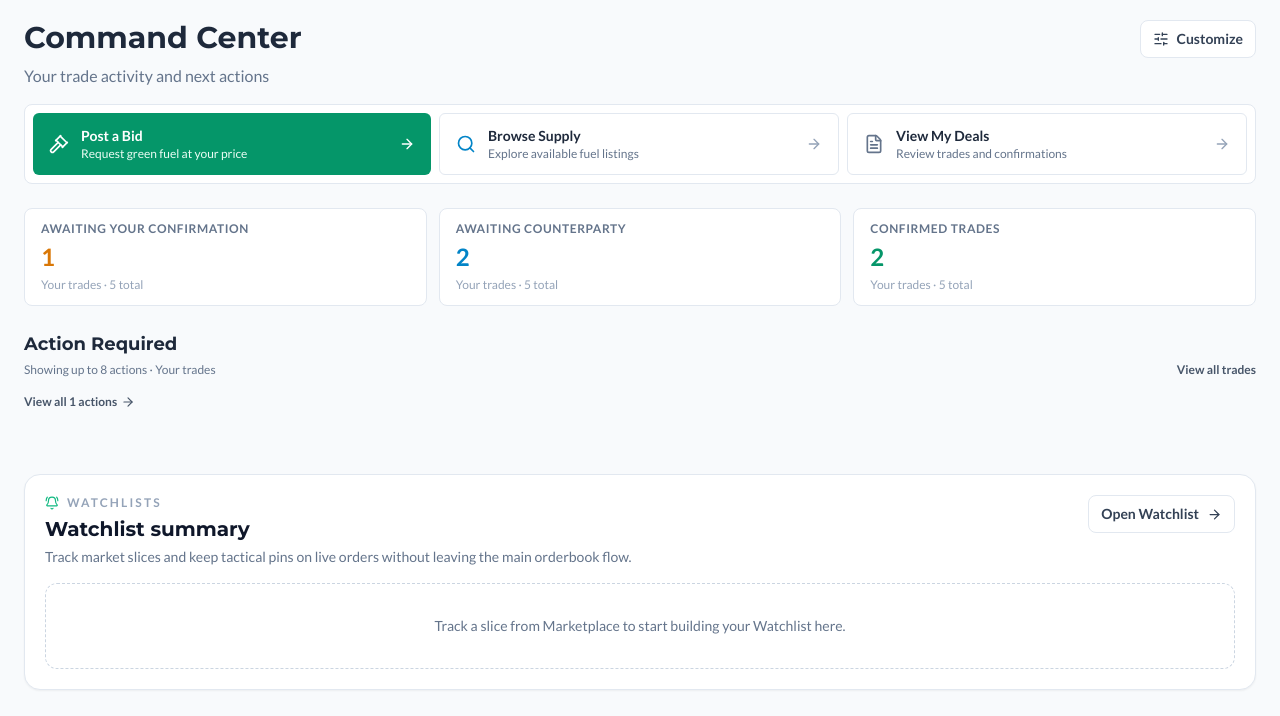
customizable home › customizing › disables a move that cannot happen
expect the heading "Command Center" is shown: met, box [24,20,302,56]
Click the button "Customize" at (1198,39), box [1140,20,1256,58]
(page scrolled)
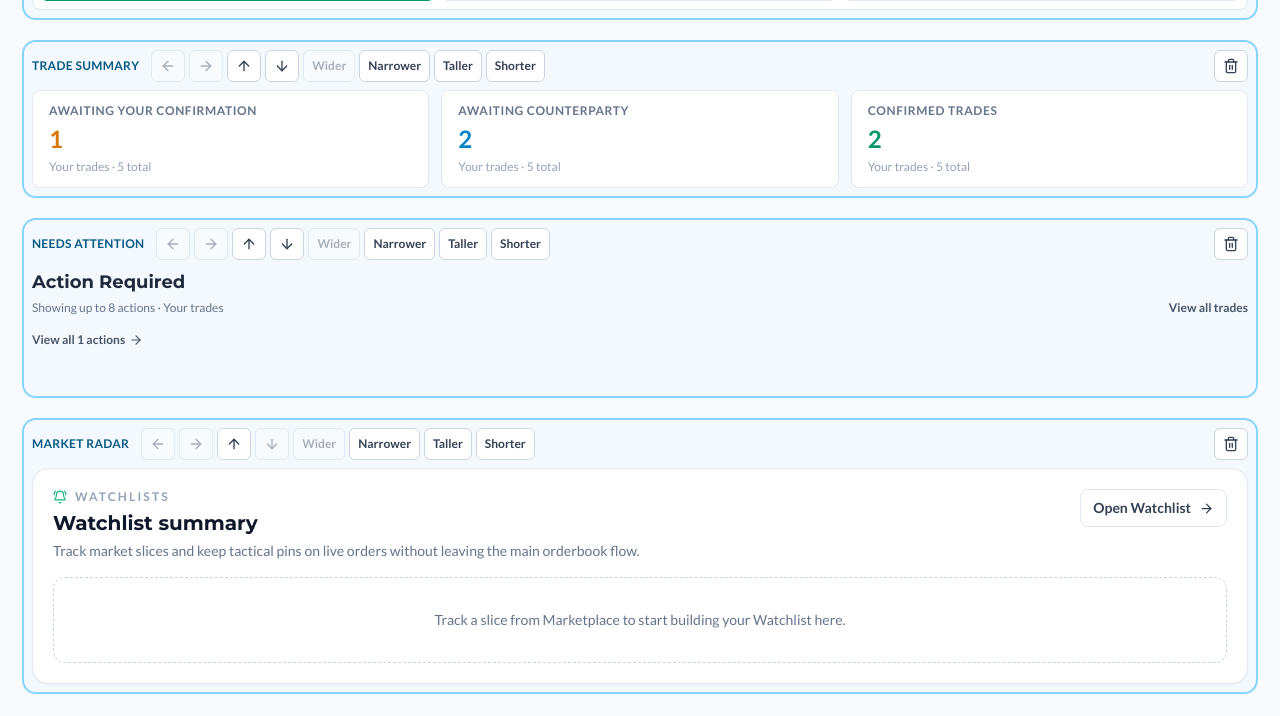
expect the button named "Move Market radar down" is disabled: met, box [255,428,289,460]
